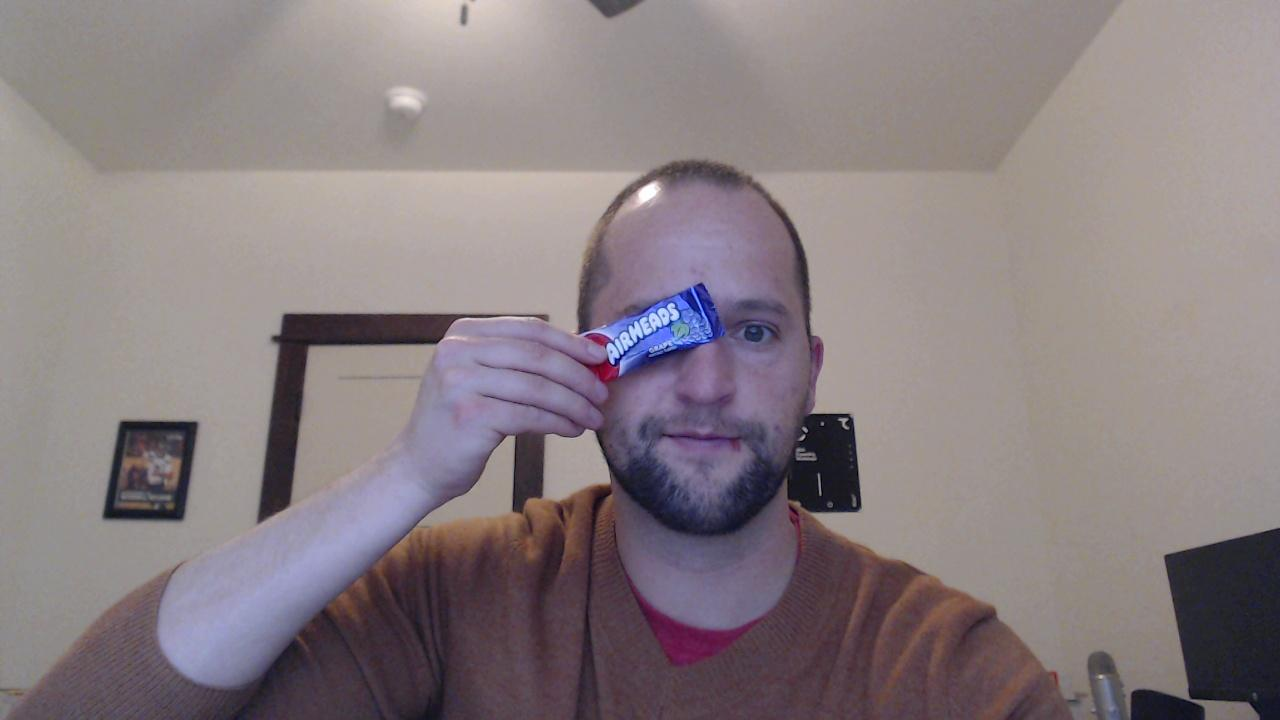airheads: (574, 283, 727, 383)
